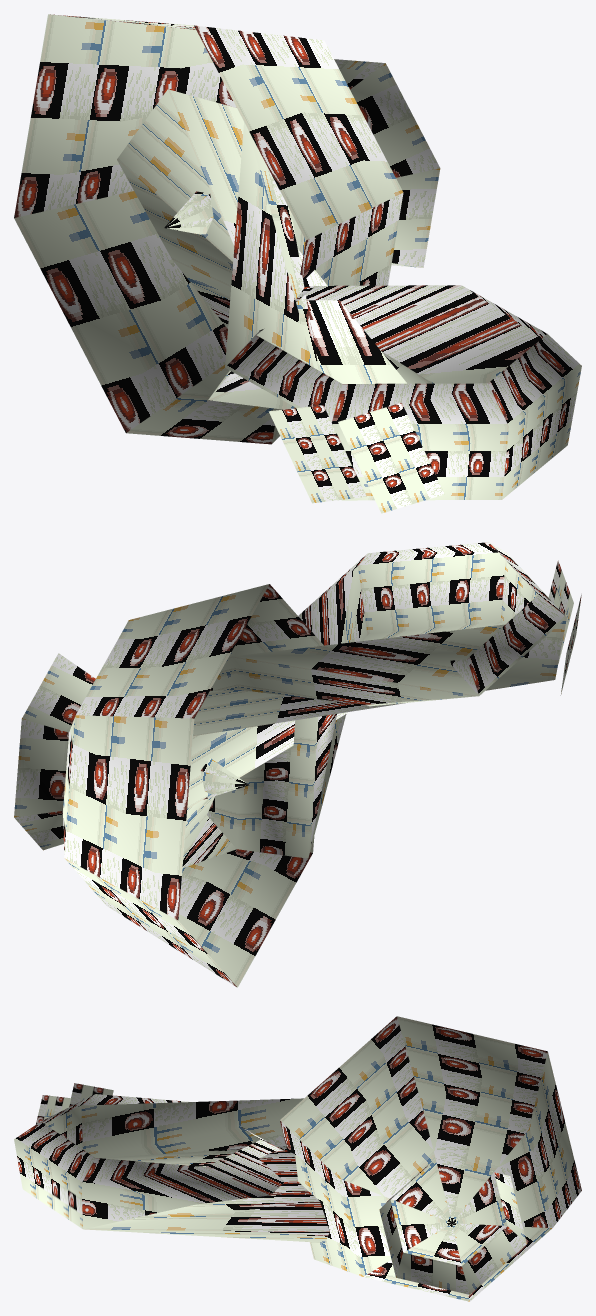
Rendered from 5060musi70.gltf.
3 renders of one model, top to bottom at view 1: azimuth 30°, elevation 25°; view 2: azimuth 150°, elevation 25°; view 3: azimuth 270°, elevation 25°, orthographic. The views are drawn at different scales.
Parts seen in each view (by area): view 1: 5060musi70; view 2: 5060musi70; view 3: 5060musi70.
Boxes of the visible parts, x1,y1,x2,y2 form: 5060musi70: [14, 14, 581, 513]; 5060musi70: [14, 542, 581, 987]; 5060musi70: [14, 1016, 581, 1301].
Size of the model in its own units: 0.348 by 0.388 by 0.7058.
Materials: 1 (1 with a texture image).
